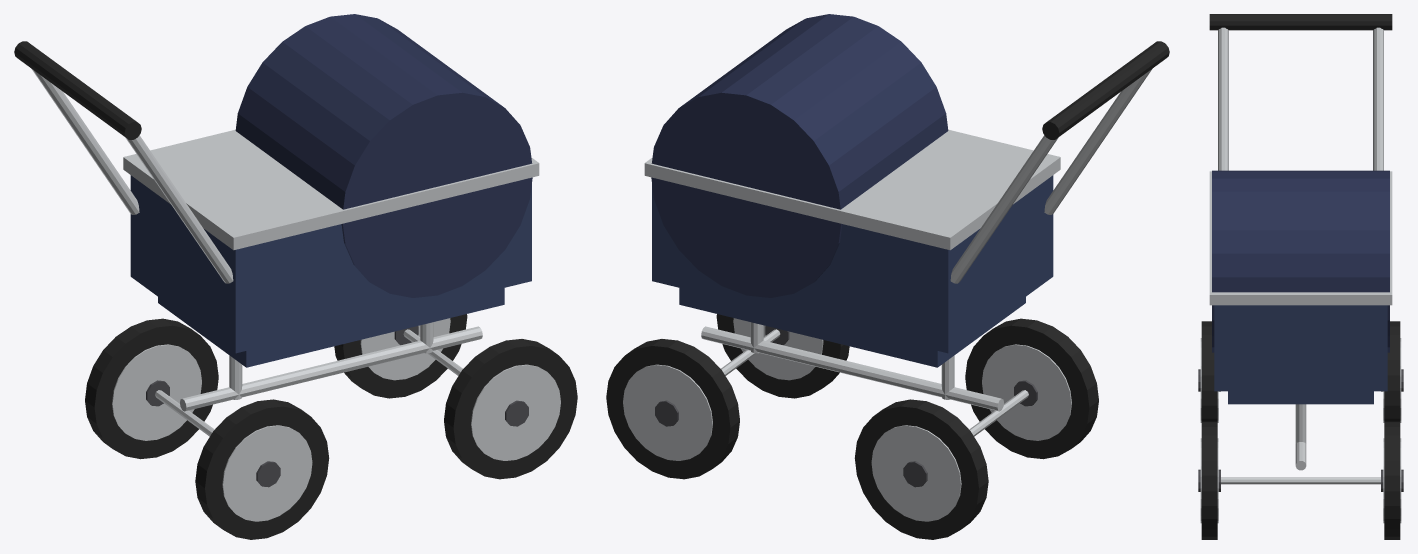
The model's file is stroller.glb.
The picture shows the model from 3 angles, left to right: view 1: azimuth 30°, elevation 25°; view 2: azimuth 150°, elevation 25°; view 3: azimuth 270°, elevation 25°; orthographic projection. The views are drawn at different scales.
Parts seen in each view (by area): view 1: stroller; view 2: stroller; view 3: stroller.
Part boxes in pixels (box(x1,y1,x2,y2)): stroller: box(14, 14, 577, 539); stroller: box(606, 14, 1169, 539); stroller: box(1198, 14, 1403, 539).
Size of the model in its own units: 0.938 by 0.888 by 0.45.
